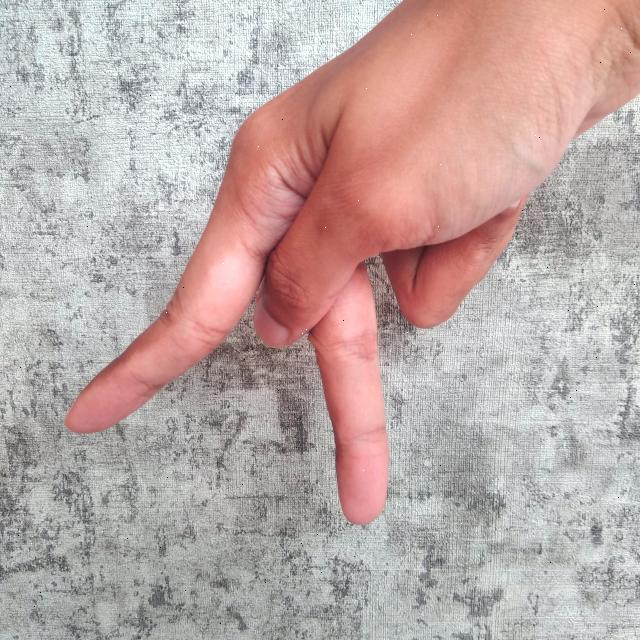P: (57, 0, 640, 544)
